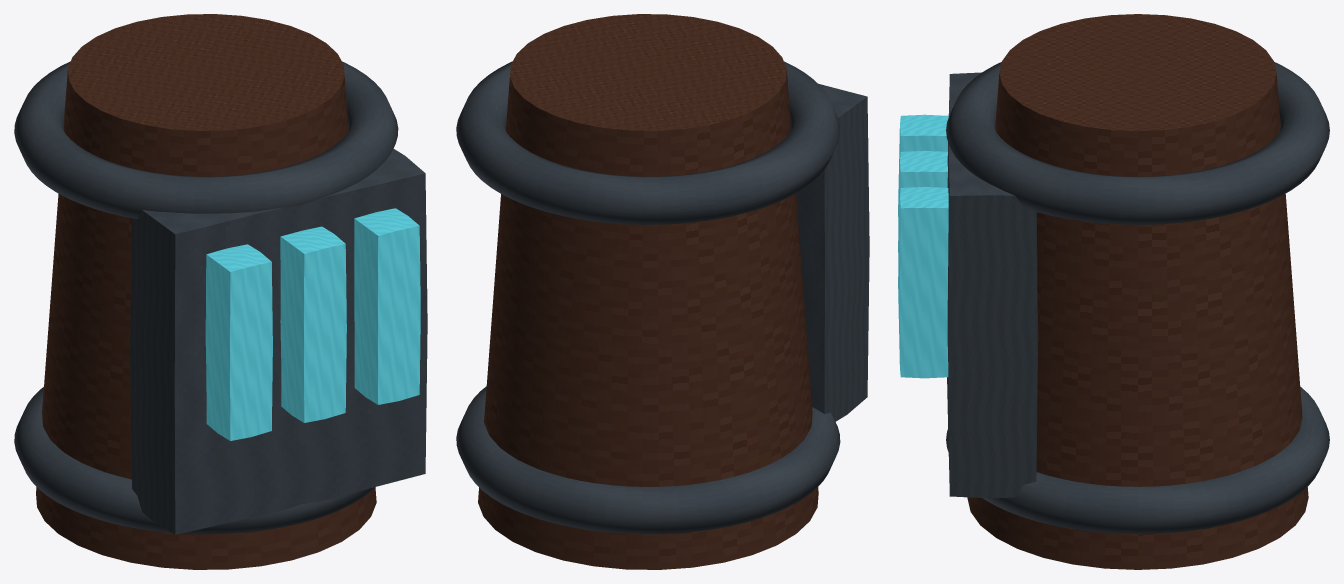
The model's file is energy-gauntlet.glb.
The picture shows the model from 3 angles, left to right: view 1: azimuth 30°, elevation 25°; view 2: azimuth 150°, elevation 25°; view 3: azimuth 270°, elevation 25°; orthographic projection.
Visible parts, largest first — view 1: leather.0, iron.3, iron.2, crystal.4, crystal.6, crystal.5, iron.1; view 2: leather.0, iron.2, iron.1, iron.3; view 3: leather.0, iron.3, iron.2, iron.1, crystal.6, crystal.5, crystal.4.
Boxes of the visible parts, x1=… form: leather.0: x1=36, y1=14, x2=376, y2=569; iron.3: x1=130, y1=148, x2=427, y2=534; iron.2: x1=14, y1=61, x2=398, y2=219; crystal.4: x1=205, y1=244, x2=272, y2=440; crystal.6: x1=354, y1=208, x2=420, y2=404; crystal.5: x1=280, y1=226, x2=346, y2=422; iron.1: x1=14, y1=387, x2=375, y2=534; leather.0: x1=478, y1=14, x2=818, y2=569; iron.2: x1=456, y1=61, x2=840, y2=224; iron.1: x1=456, y1=386, x2=840, y2=534; iron.3: x1=796, y1=84, x2=869, y2=421; leather.0: x1=967, y1=14, x2=1308, y2=569; iron.3: x1=947, y1=72, x2=1038, y2=498; iron.2: x1=946, y1=62, x2=1329, y2=224; iron.1: x1=946, y1=387, x2=1329, y2=534; crystal.6: x1=898, y1=187, x2=948, y2=378; crystal.5: x1=898, y1=150, x2=947, y2=260; crystal.4: x1=898, y1=114, x2=948, y2=224.
Size of the model in its own units: 0.18 by 0.22 by 0.2025.
3 materials, 3 textured.
